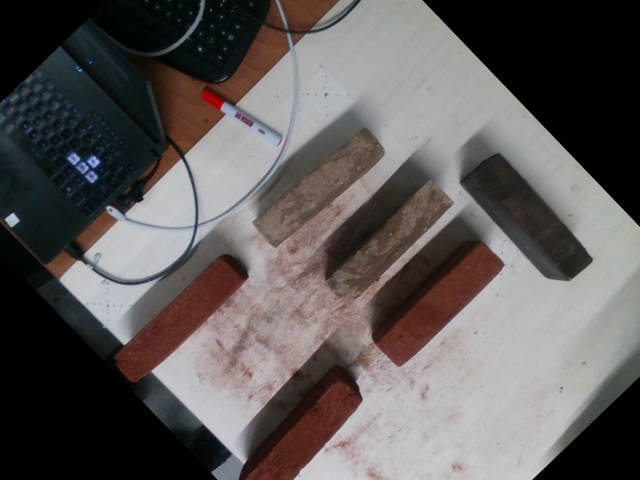brick-side: (113, 257, 243, 383), (327, 178, 456, 304), (378, 242, 507, 368), (251, 125, 385, 245), (476, 155, 594, 278), (241, 378, 365, 479)
